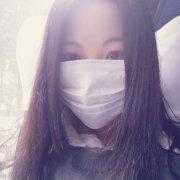OK: (52, 28, 142, 130)
